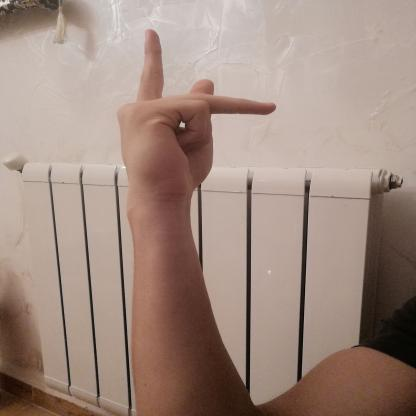DHAA: (102, 21, 289, 212)
